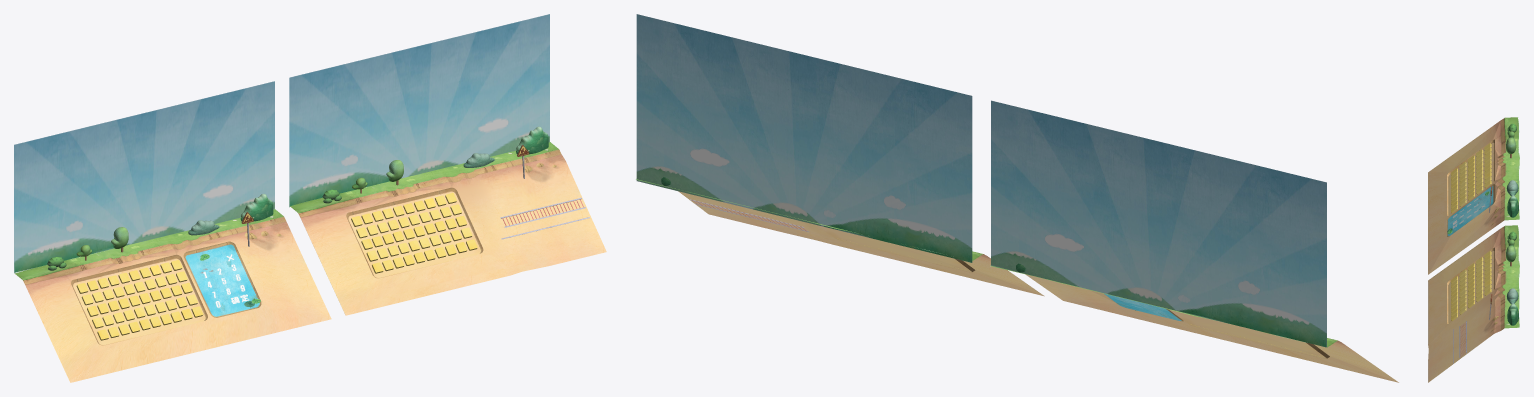
3 views of the same model, side by side, from view 1: azimuth 30°, elevation 25°; view 2: azimuth 150°, elevation 25°; view 3: azimuth 270°, elevation 25° (orthographic). The views are drawn at different scales.
Parts seen in each view (by area): view 1: Cylinder002, Cylinder001, 对象229; view 2: Cylinder002, Cylinder001; view 3: Cylinder001, Cylinder002, 对象229.
Part boxes in pixels (box(x1,y1,x2,y2)): Cylinder002: box(289, 14, 606, 315); Cylinder001: box(14, 81, 331, 382); 对象229: box(500, 197, 585, 227); Cylinder002: box(635, 14, 1044, 296); Cylinder001: box(990, 100, 1398, 382); Cylinder001: box(1428, 117, 1519, 274); Cylinder002: box(1428, 225, 1519, 382); 对象229: box(1459, 321, 1466, 357).
Bounding box in the file's own units: 709 × 249 × 131.
Materials: 1 (1 with a texture image).
